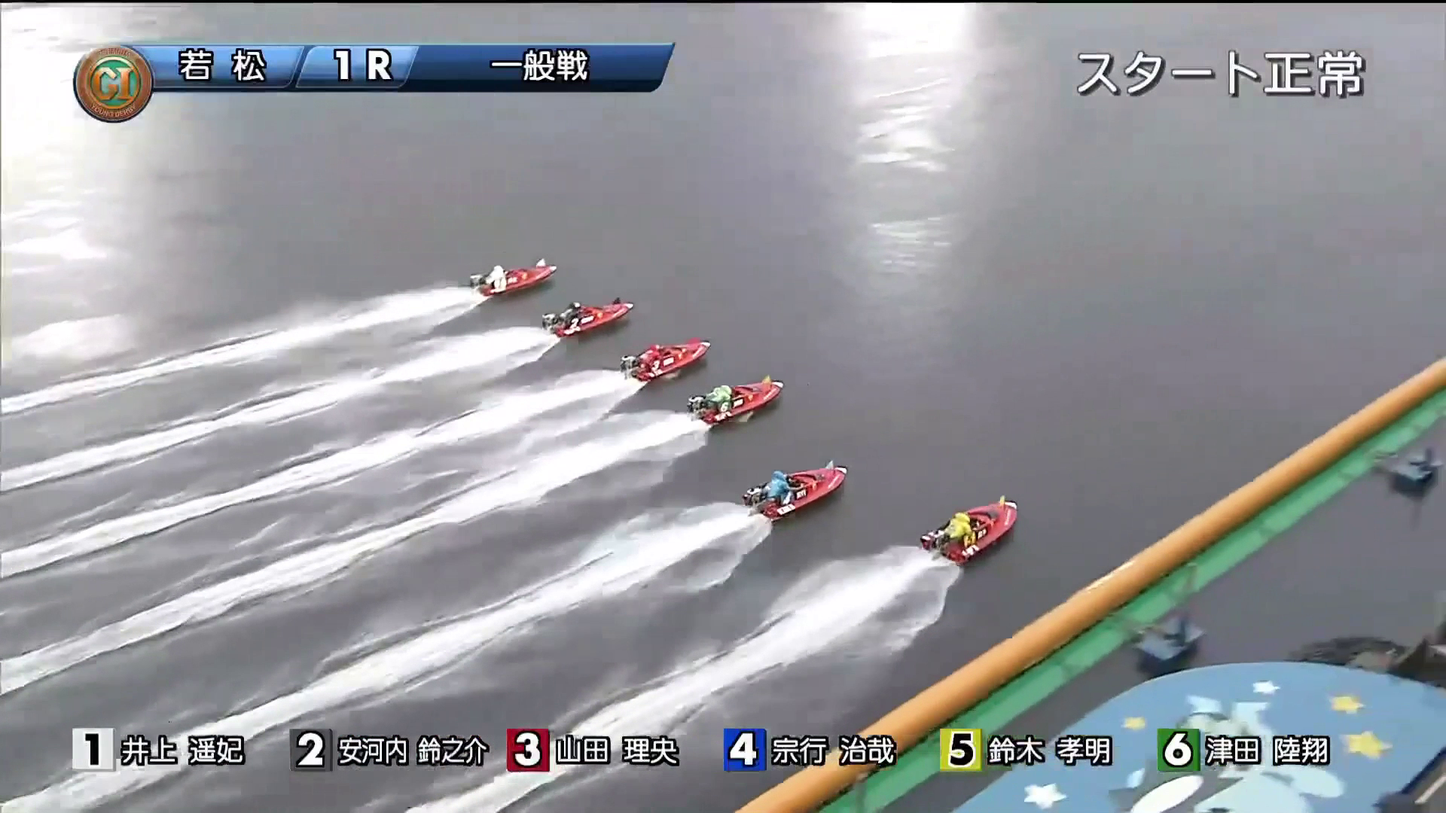１号艇: (840, 327, 915, 367)
２号艇: (647, 310, 736, 348)
３号艇: (662, 347, 753, 389)
４号艇: (680, 392, 785, 435)
５号艇: (658, 451, 778, 506)
６号艇: (766, 502, 865, 558)
